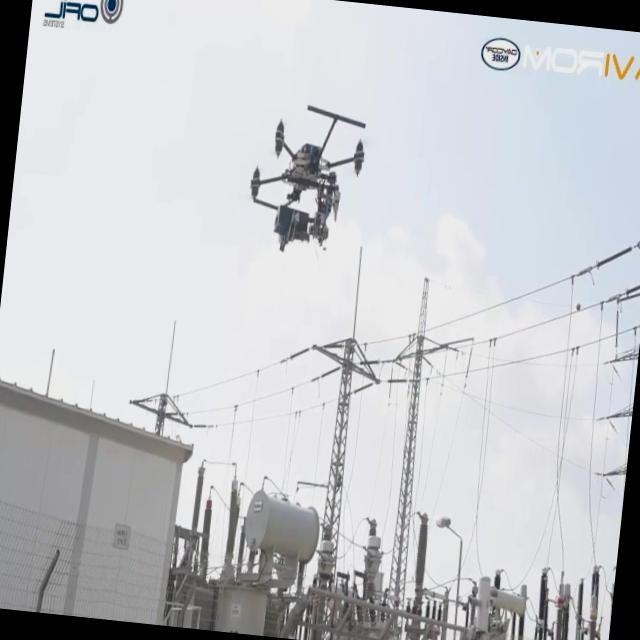drone: (240, 95, 370, 262)
